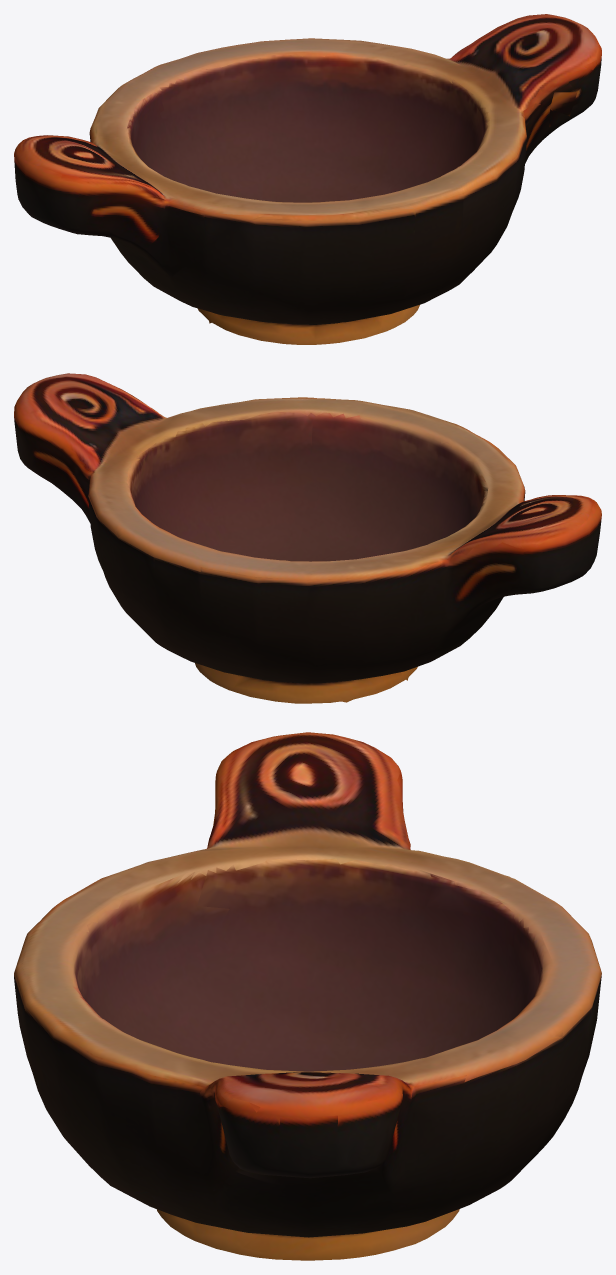
The model's file is drift_items.fbx.
3 views of the same model, one above another, from view 1: azimuth 30°, elevation 25°; view 2: azimuth 150°, elevation 25°; view 3: azimuth 270°, elevation 25° (orthographic). The views are drawn at different scales.
Visible parts, largest first — view 1: 1_output_1794025072196488_IJYIzOsga; view 2: 1_output_1794025072196488_IJYIzOsga; view 3: 1_output_1794025072196488_IJYIzOsga.
Boxes of the visible parts, x1,y1,x2,y2 form: 1_output_1794025072196488_IJYIzOsga: (14,14,601,344); 1_output_1794025072196488_IJYIzOsga: (14,373,601,703); 1_output_1794025072196488_IJYIzOsga: (14,732,601,1260).
Size of the model in its own units: 0.9909 by 0.3498 by 0.654.
1 material, 1 textured.
